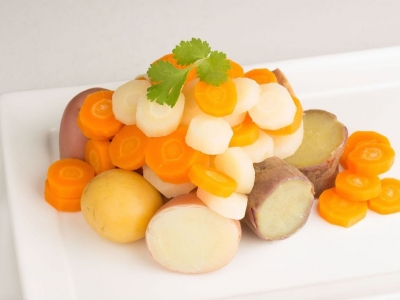boiled potatoes: (147, 200, 243, 272), (85, 169, 151, 241), (252, 165, 311, 241), (284, 114, 350, 180)
